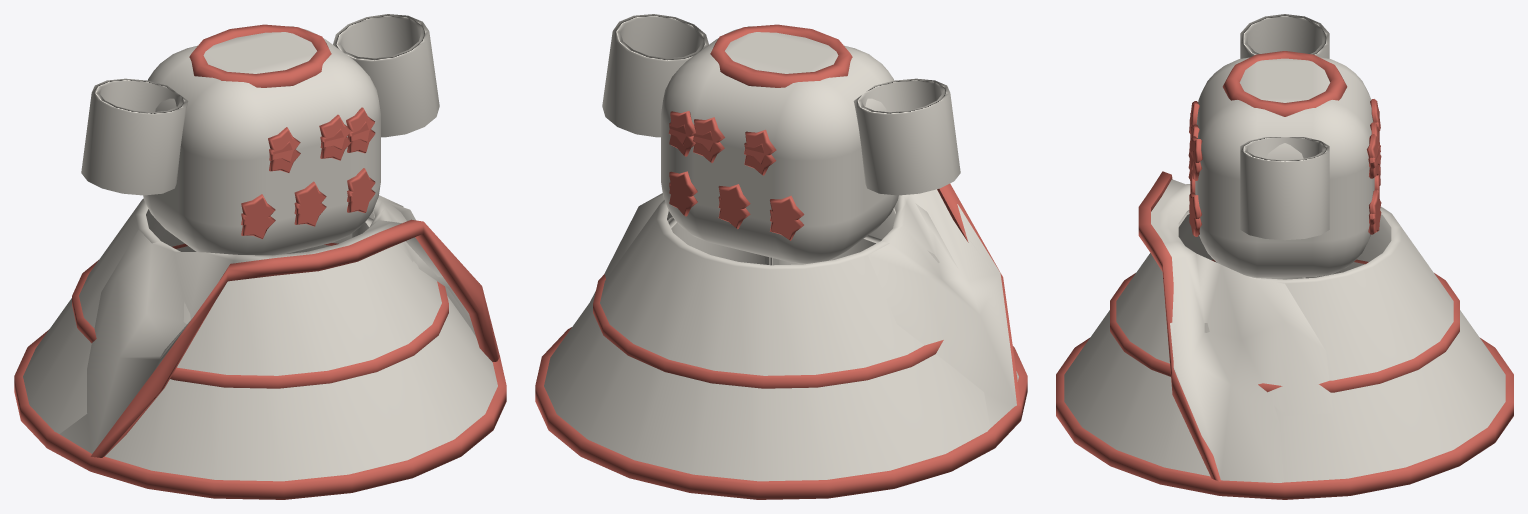
The model's file is paradise_planning_maxi.glb.
3 renders of one model, left to right at view 1: azimuth 30°, elevation 25°; view 2: azimuth 150°, elevation 25°; view 3: azimuth 270°, elevation 25°, orthographic. The views are drawn at different scales.
Parts seen in each view (by area): view 1: paradise_planning_maxi_Body, paradise_planning_maxi_Body_sit, paradise_planning_maxi_ArmL, paradise_planning_maxi_ArmR; view 2: paradise_planning_maxi_Body, paradise_planning_maxi_Body_sit, paradise_planning_maxi_ArmL, paradise_planning_maxi_ArmR, paradise_planning_maxi_LegR_sit, paradise_planning_maxi_LegL_sit; view 3: paradise_planning_maxi_Body, paradise_planning_maxi_Body_sit, paradise_planning_maxi_ArmR, paradise_planning_maxi_ArmL.
Boxes of the visible parts, x1,y1,x2,y2 form: paradise_planning_maxi_Body: [14, 24, 506, 499]; paradise_planning_maxi_Body_sit: [60, 51, 499, 457]; paradise_planning_maxi_ArmL: [81, 78, 188, 195]; paradise_planning_maxi_ArmR: [333, 14, 439, 137]; paradise_planning_maxi_Body: [535, 24, 1027, 499]; paradise_planning_maxi_Body_sit: [590, 59, 1020, 427]; paradise_planning_maxi_ArmL: [853, 78, 960, 195]; paradise_planning_maxi_ArmR: [602, 14, 708, 137]; paradise_planning_maxi_LegR_sit: [668, 217, 772, 265]; paradise_planning_maxi_LegL_sit: [769, 235, 881, 265]; paradise_planning_maxi_Body: [1056, 51, 1513, 499]; paradise_planning_maxi_Body_sit: [1138, 99, 1385, 482]; paradise_planning_maxi_ArmR: [1240, 137, 1329, 240]; paradise_planning_maxi_ArmL: [1240, 14, 1329, 58].
Bounding box in the file's own units: 0.748 × 0.6289 × 0.7404.
